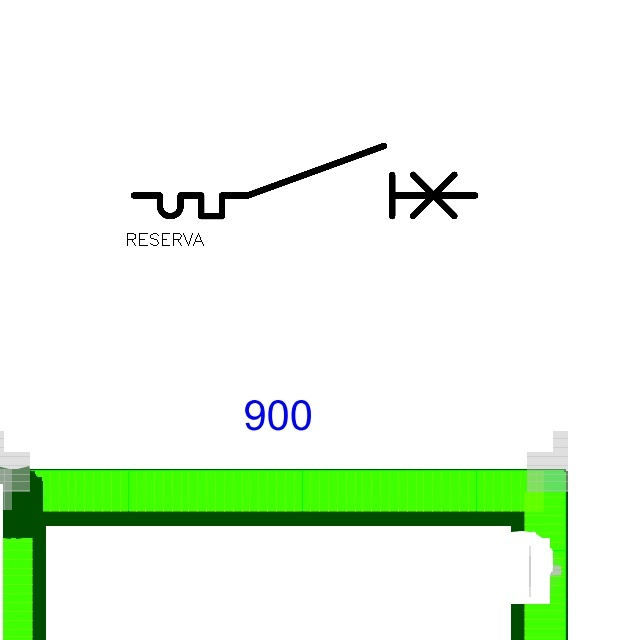interruptor_termomagnetico: (125, 137, 484, 225)
